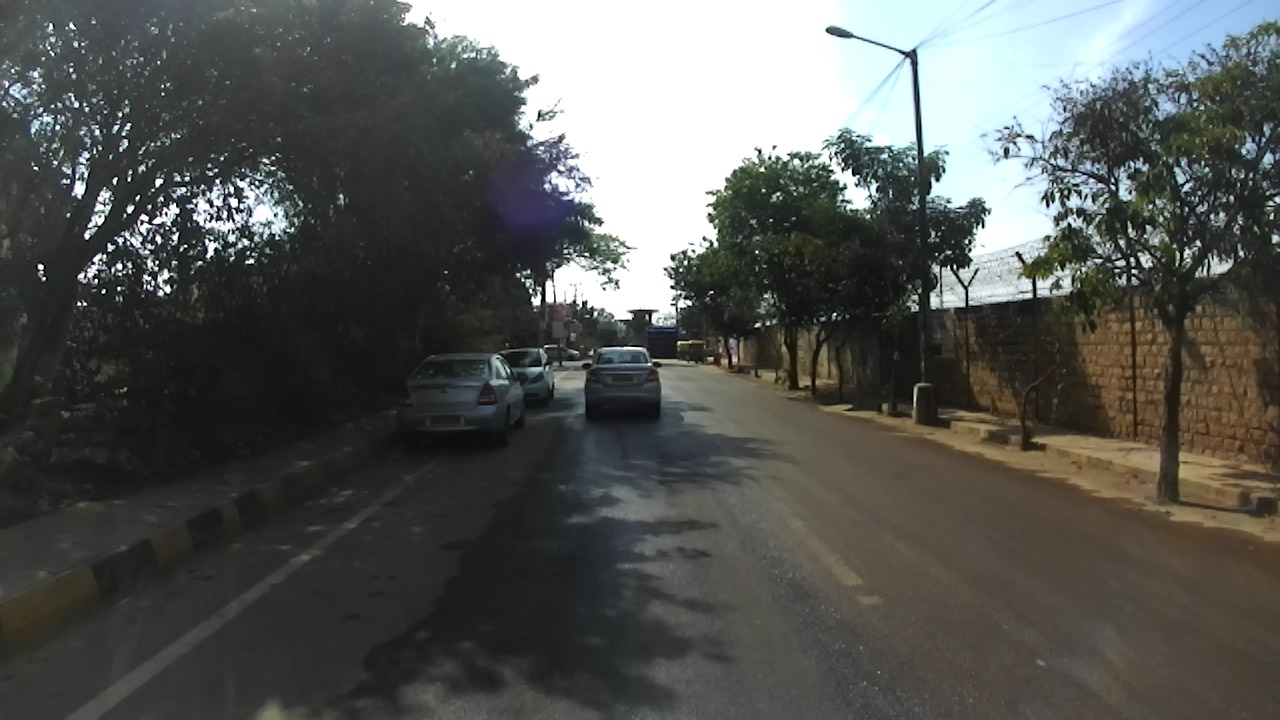autorickshaw: (686, 341, 709, 366), (676, 341, 689, 360)
car: (392, 351, 526, 456), (582, 345, 662, 420), (498, 347, 558, 406), (544, 345, 581, 362)
truck: (647, 326, 679, 359)
vehicle fallback: (586, 348, 595, 358)
